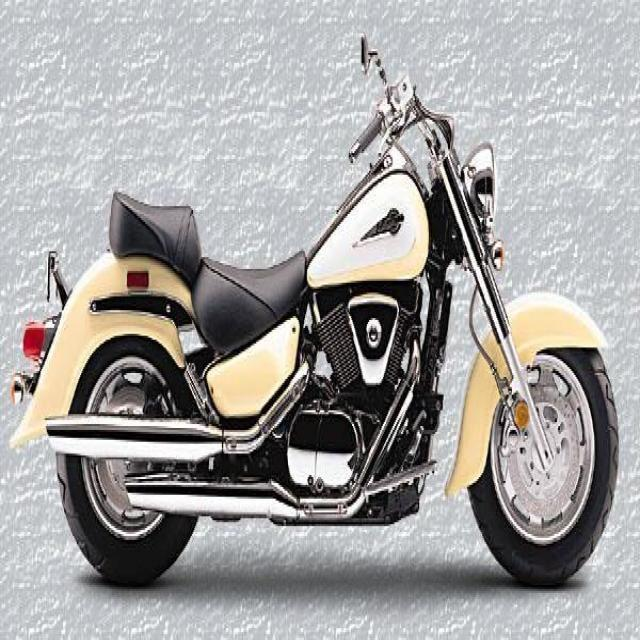Motorcycle: (28, 56, 628, 613)
